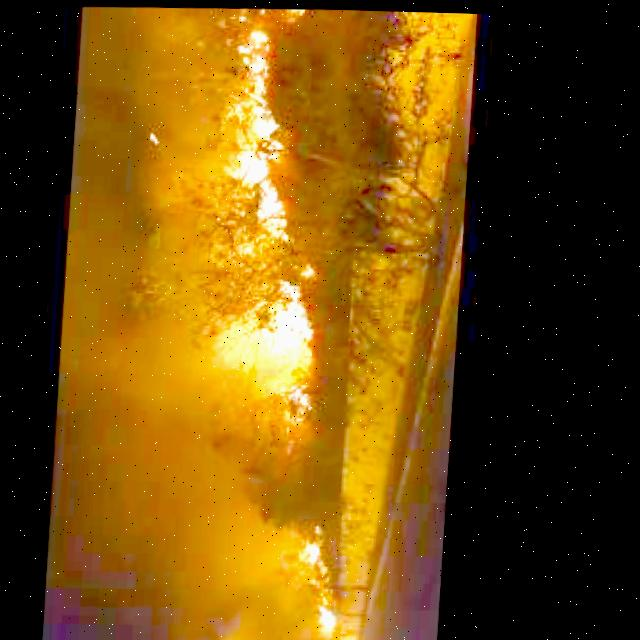Fire: (221, 32, 305, 245), (266, 283, 316, 352), (284, 384, 317, 412), (325, 601, 345, 631), (274, 6, 304, 18), (313, 542, 330, 562)
